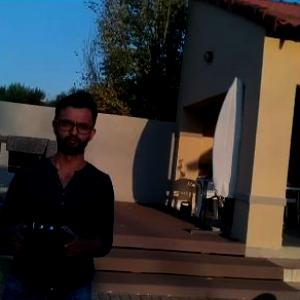follow: (0, 89, 120, 299)
